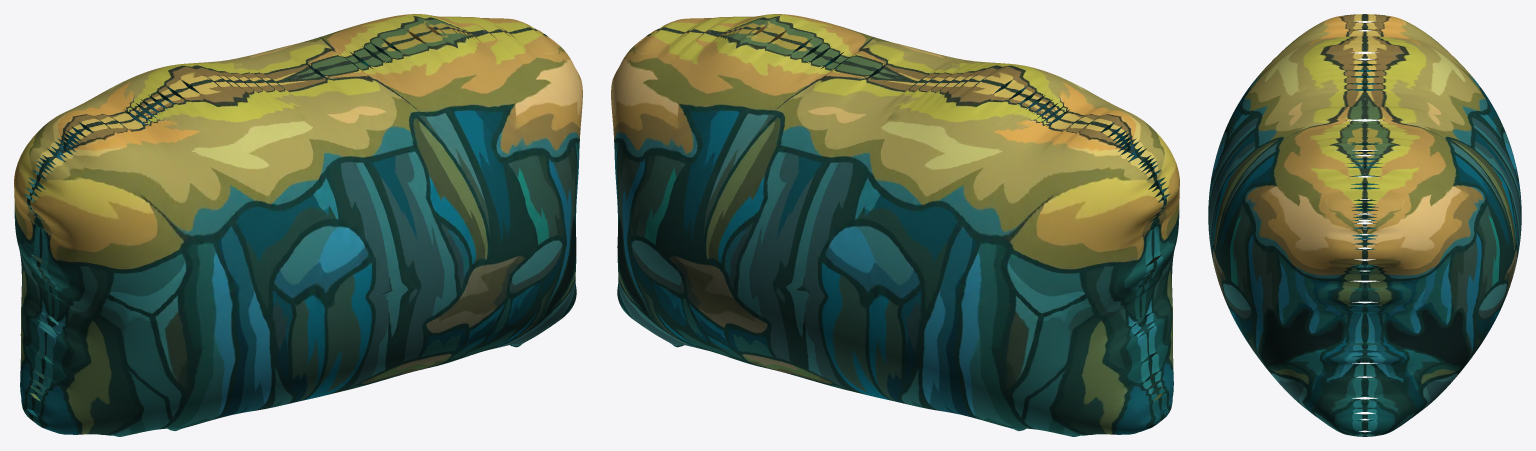
File: north_cliff.glb
The picture shows the model from 3 angles, left to right: view 1: azimuth 30°, elevation 25°; view 2: azimuth 150°, elevation 25°; view 3: azimuth 270°, elevation 25°; orthographic projection. The views are drawn at different scales.
Parts seen in each view (by area): view 1: north_cliff; view 2: north_cliff; view 3: north_cliff.
Part boxes in pixels (<box>): north_cliff: <box>14,14,582,436</box>; north_cliff: <box>611,14,1179,436</box>; north_cliff: <box>1208,14,1521,436</box>.
Bounding box in the file's own units: 0.9889 × 0.5534 × 0.6138.
1 material, 1 textured.
